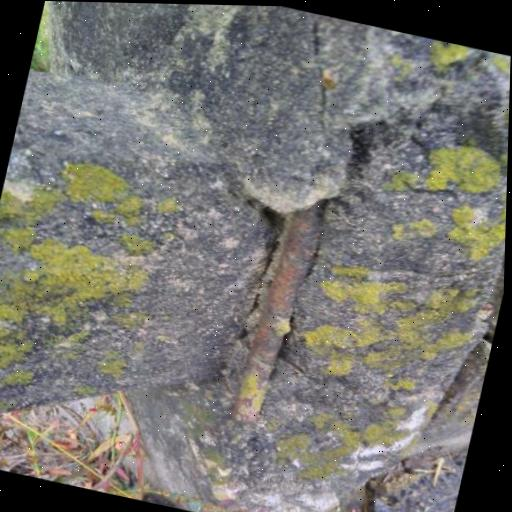exposed_rebar: (232, 202, 325, 422)
